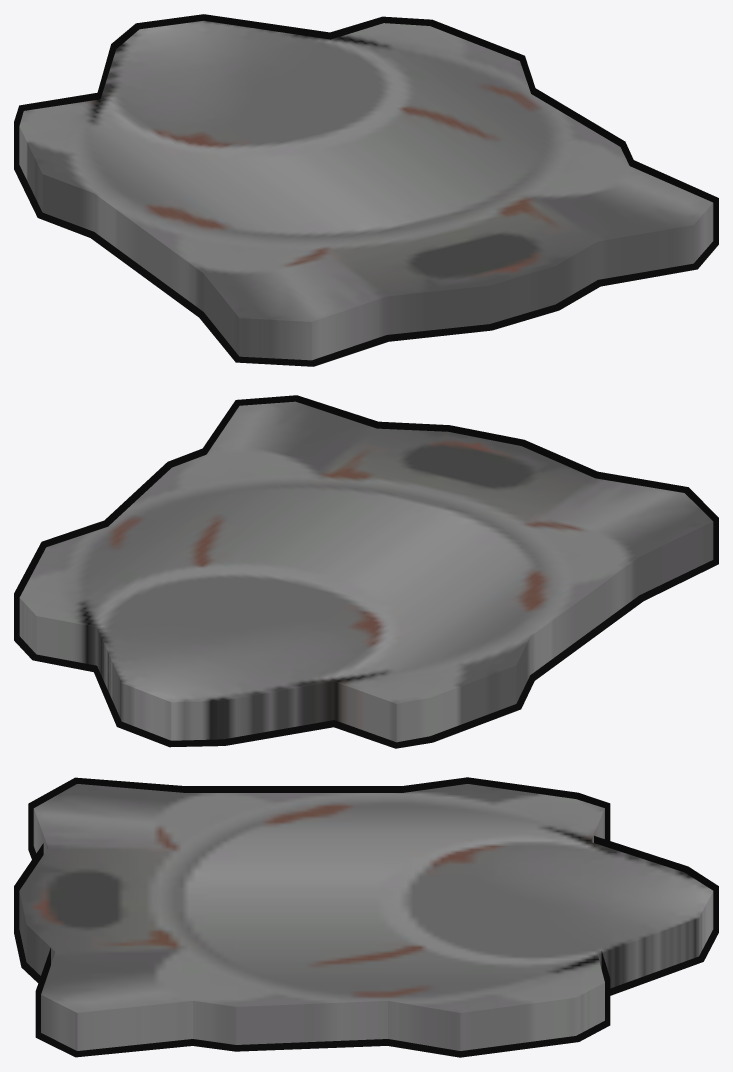
Rendered from Item_ActiveDropPodAncient_Things_Building_AncientLaunchPod_AncientLaunchPodA.glb.
The picture shows the model from 3 angles, top to bottom: view 1: azimuth 30°, elevation 25°; view 2: azimuth 150°, elevation 25°; view 3: azimuth 270°, elevation 25°; orthographic projection.
Parts seen in each view (by area): view 1: Body, Outline; view 2: Body, Outline; view 3: Body, Outline.
Part boxes in pixels (bbox=[...]): Body: bbox=[19, 20, 713, 360]; Outline: bbox=[14, 14, 718, 366]; Body: bbox=[19, 401, 713, 742]; Outline: bbox=[14, 395, 718, 748]; Body: bbox=[19, 784, 713, 1050]; Outline: bbox=[14, 777, 718, 1057].
Bounding box in the file's own units: 0.5979 × 0.0587 × 0.7618.
2 materials, 1 textured.
